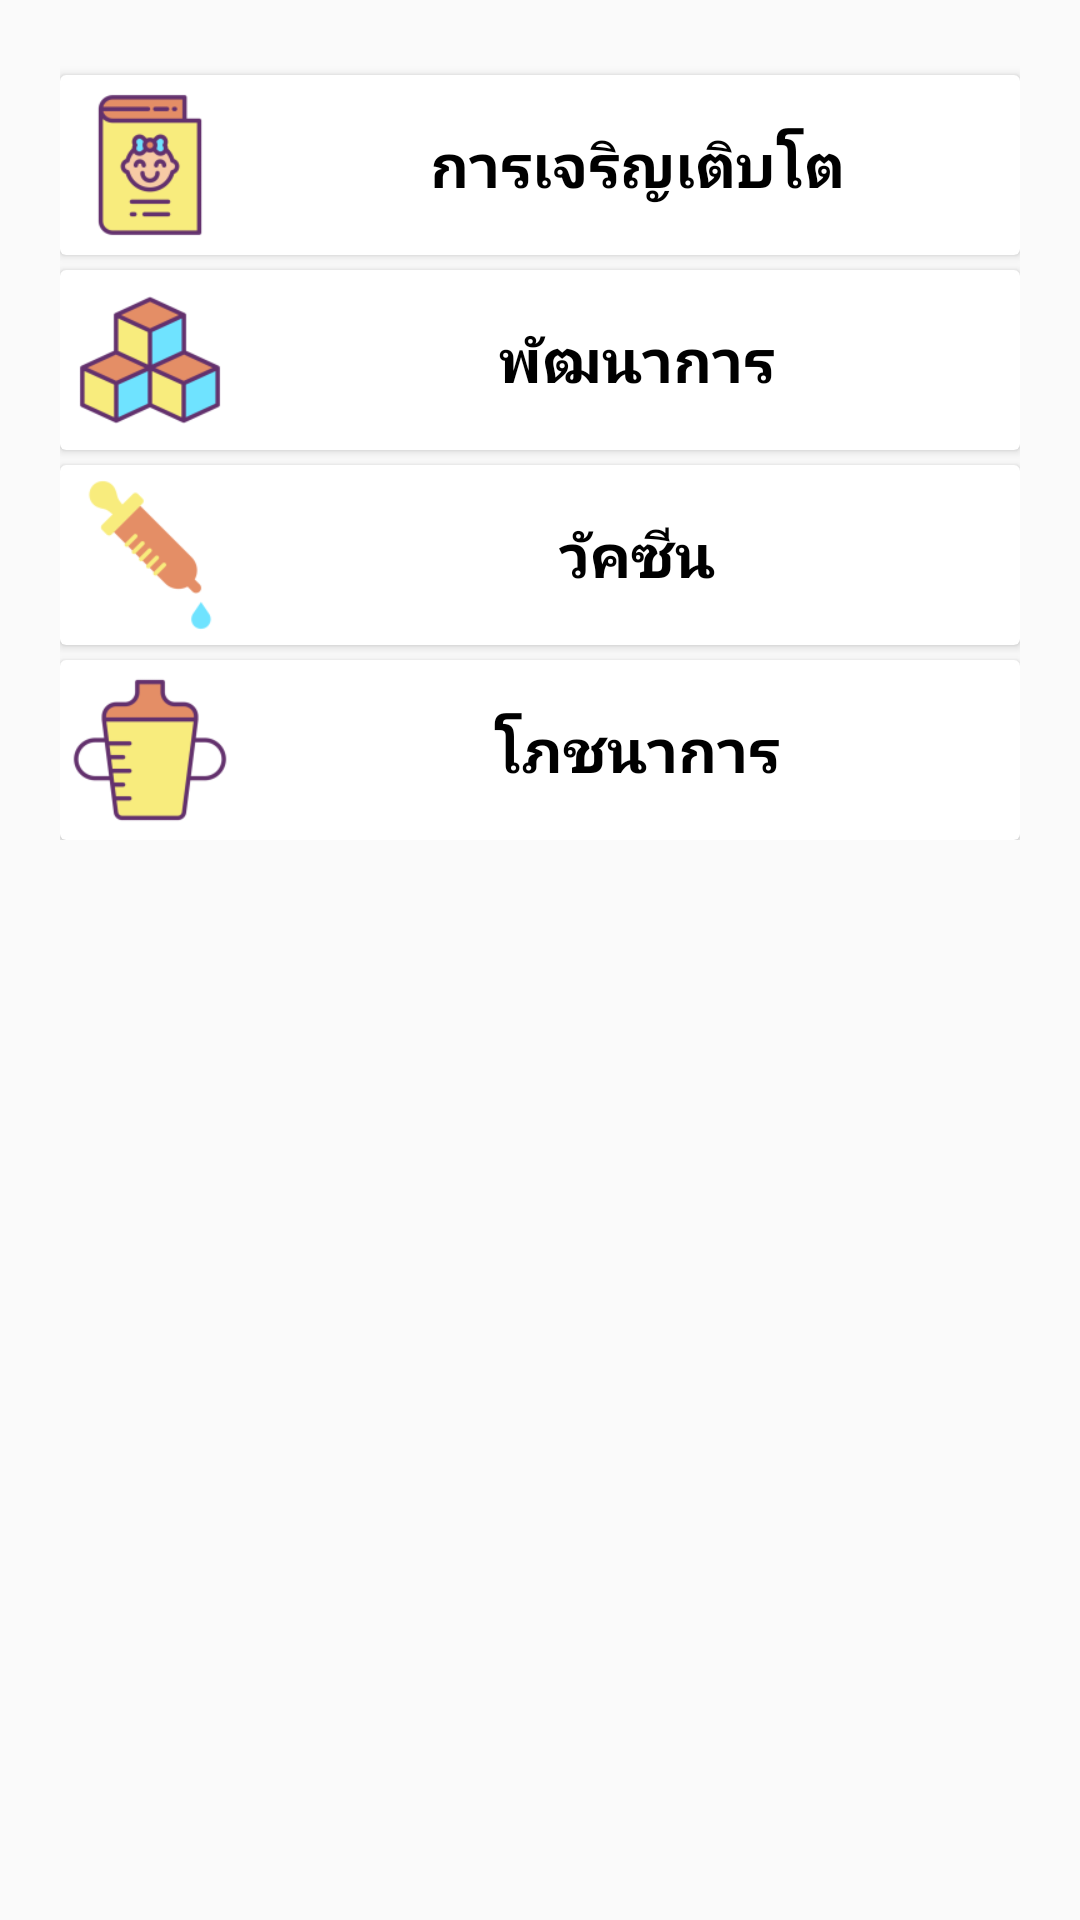

Icons on this 1080*1920 Android screen, each with its box as (x1, y1, x2, y2):
dev: (60, 270, 220, 423)
grow: (98, 95, 202, 235)
milk: (60, 679, 227, 840)
vac: (60, 466, 211, 629)
